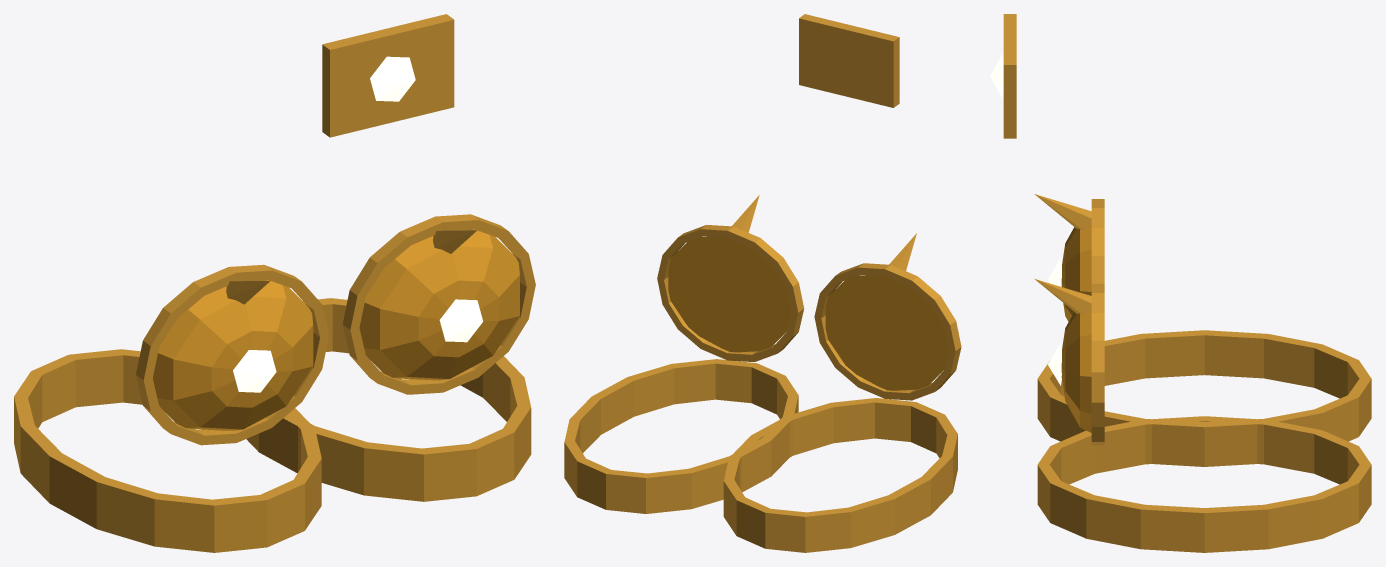
File: armor_knight_legs_legendary_human.glb
3 renders of one model, left to right at view 1: azimuth 30°, elevation 25°; view 2: azimuth 150°, elevation 25°; view 3: azimuth 270°, elevation 25°, orthographic. The views are drawn at different scales.
Visible parts, largest first — view 1: armor_knight_legs_legendary_human__calf_r, armor_knight_legs_legendary_human__calf_l, armor_knight_legs_legendary_human__pelvis; view 2: armor_knight_legs_legendary_human__calf_l, armor_knight_legs_legendary_human__calf_r, armor_knight_legs_legendary_human__pelvis; view 3: armor_knight_legs_legendary_human__calf_l, armor_knight_legs_legendary_human__calf_r, armor_knight_legs_legendary_human__pelvis.
Boxes of the visible parts, x1,y1,x2,y2 form: armor_knight_legs_legendary_human__calf_r: [14, 264, 328, 552]; armor_knight_legs_legendary_human__calf_l: [246, 214, 535, 501]; armor_knight_legs_legendary_human__pelvis: [322, 14, 454, 137]; armor_knight_legs_legendary_human__calf_l: [564, 195, 804, 513]; armor_knight_legs_legendary_human__calf_r: [723, 233, 961, 552]; armor_knight_legs_legendary_human__pelvis: [799, 14, 899, 107]; armor_knight_legs_legendary_human__calf_l: [1034, 278, 1371, 552]; armor_knight_legs_legendary_human__calf_r: [1034, 194, 1371, 466]; armor_knight_legs_legendary_human__pelvis: [990, 14, 1016, 138].
Bounding box in the file's own units: 39.42 × 42.4 × 34.72.
